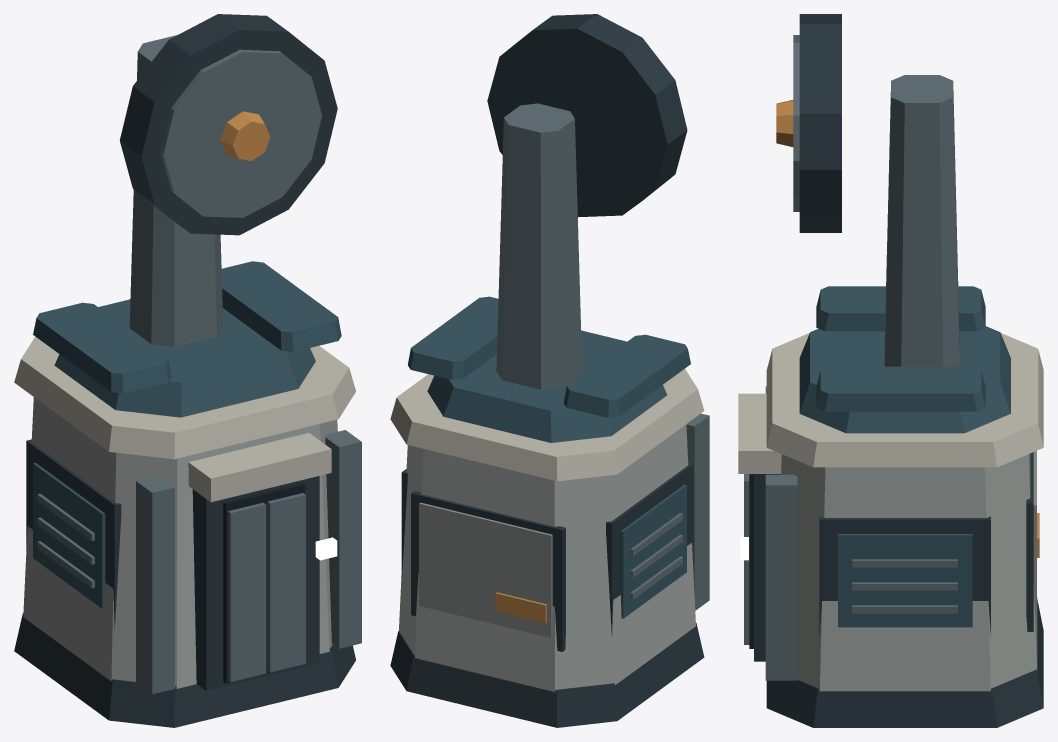
The model's file is mill_t1.glb.
3 views of the same model, side by side, from view 1: azimuth 30°, elevation 25°; view 2: azimuth 150°, elevation 25°; view 3: azimuth 270°, elevation 25° (orthographic). The views are drawn at different scales.
Parts seen in each view (by area): view 1: body, part_rotor; view 2: body, part_rotor; view 3: body, part_rotor.
Part boxes in pixels (x1,y1,x2,y2): body: [14, 35, 361, 727]; part_rotor: [119, 14, 337, 235]; body: [390, 103, 709, 727]; part_rotor: [487, 14, 687, 217]; body: [738, 75, 1043, 727]; part_rotor: [776, 14, 841, 232].
Size of the model in its own units: 1.31 by 3.37 by 1.44.
